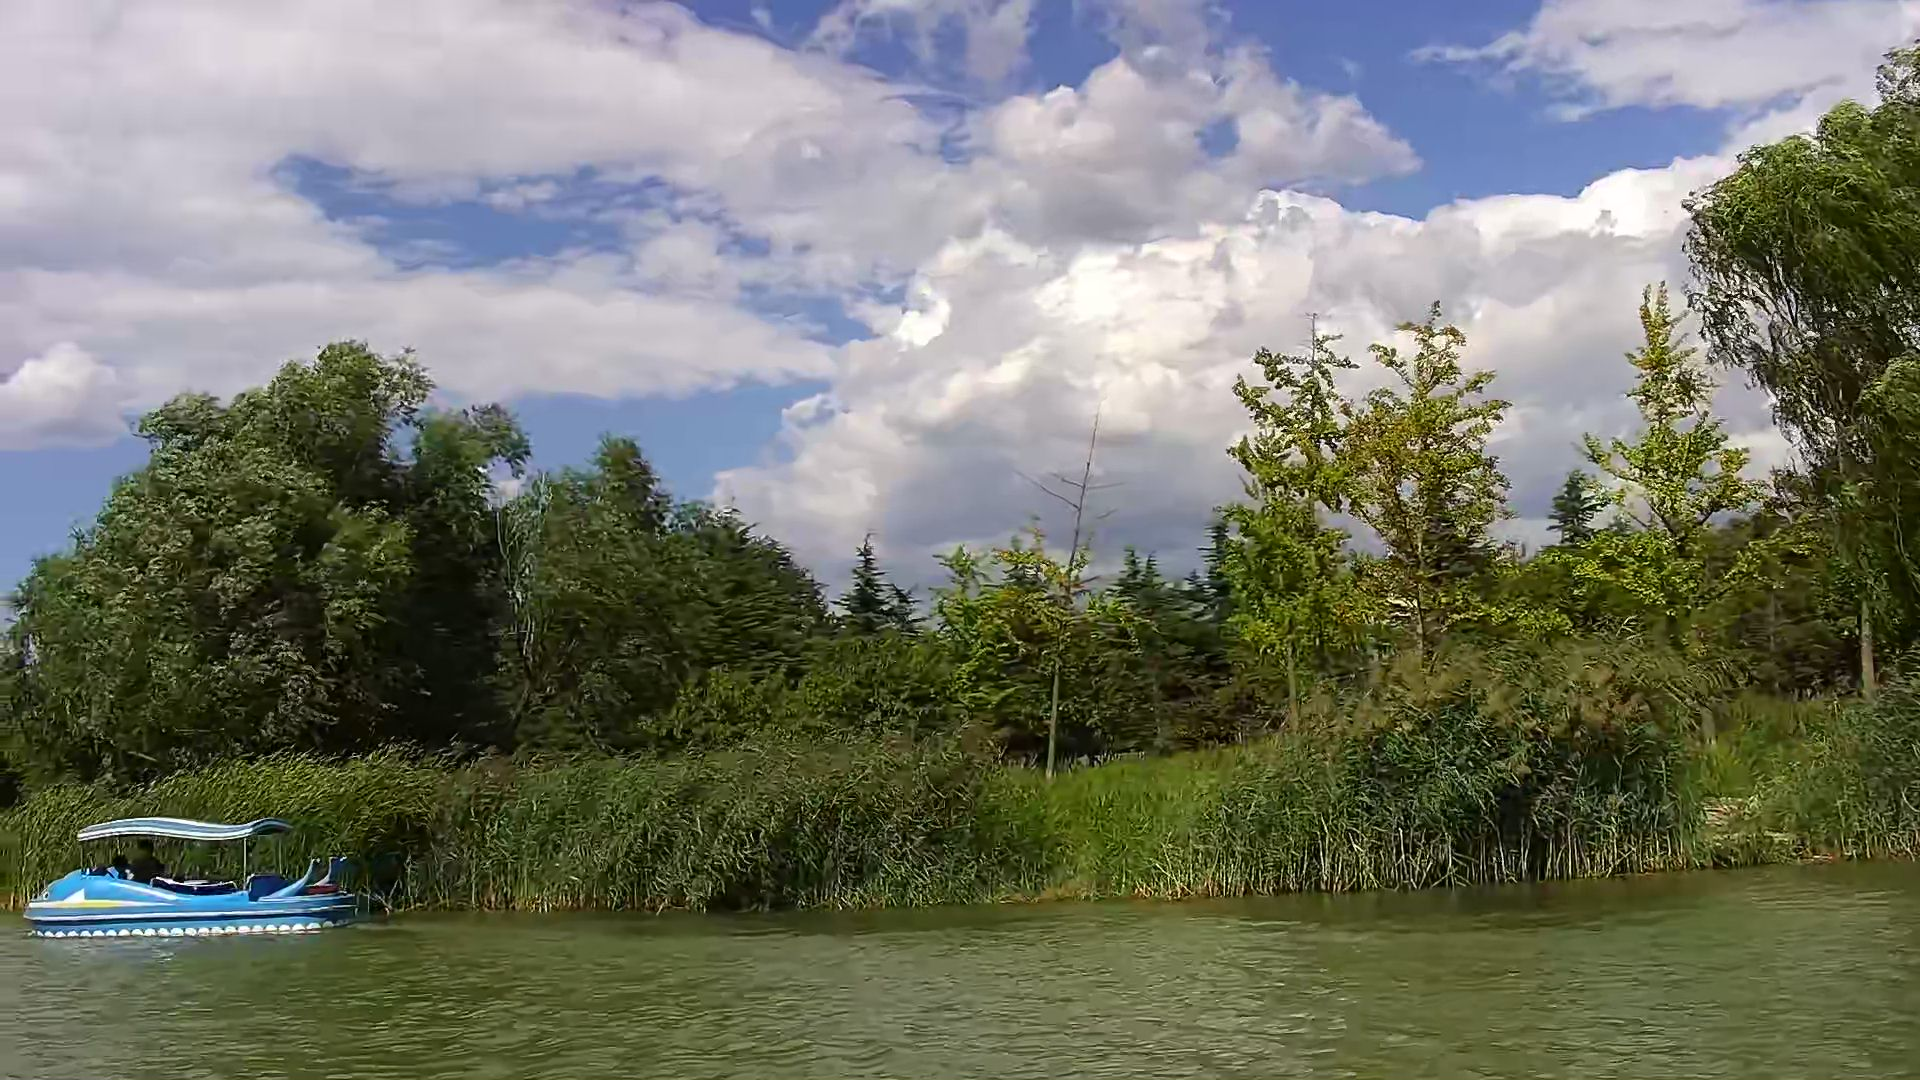boat: (22, 812, 357, 939)
